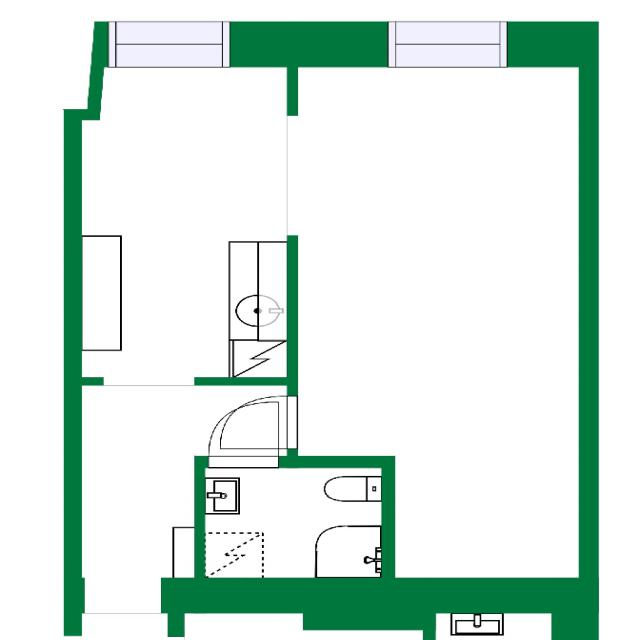door: (208, 401, 278, 468), (219, 395, 297, 448)
